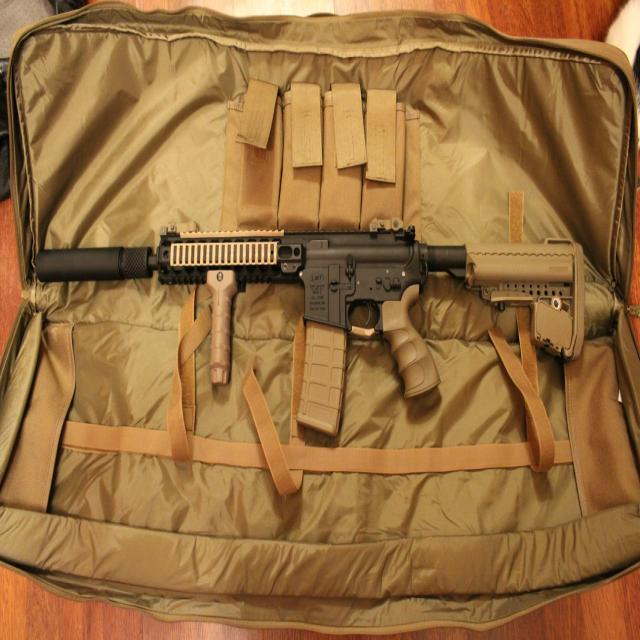firearm: (37, 226, 585, 435)
